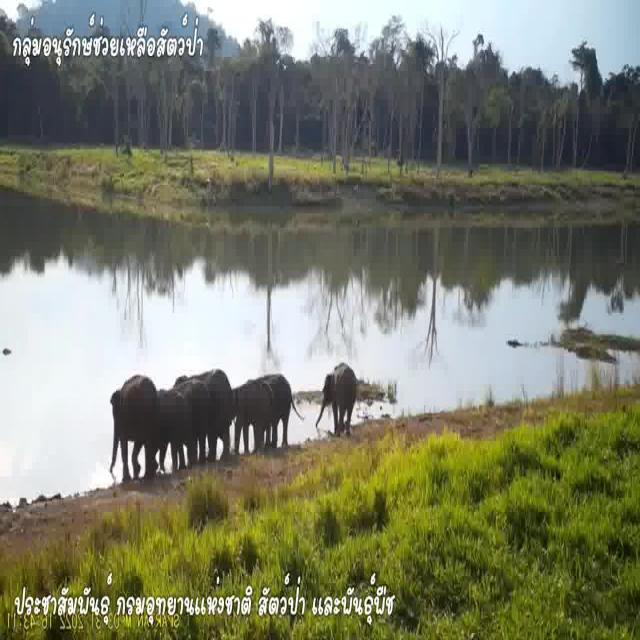Elephant: (103, 377, 155, 459), (148, 382, 192, 471), (188, 368, 230, 461), (171, 375, 213, 462), (254, 371, 296, 448), (316, 364, 362, 428), (236, 376, 265, 442)
